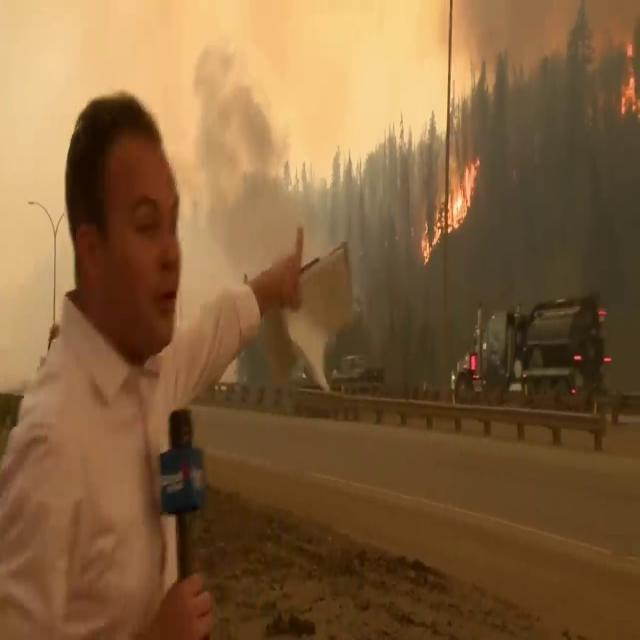Fire: (424, 146, 482, 254), (618, 30, 640, 120)
Smoke: (452, 4, 638, 308), (164, 27, 320, 288)
